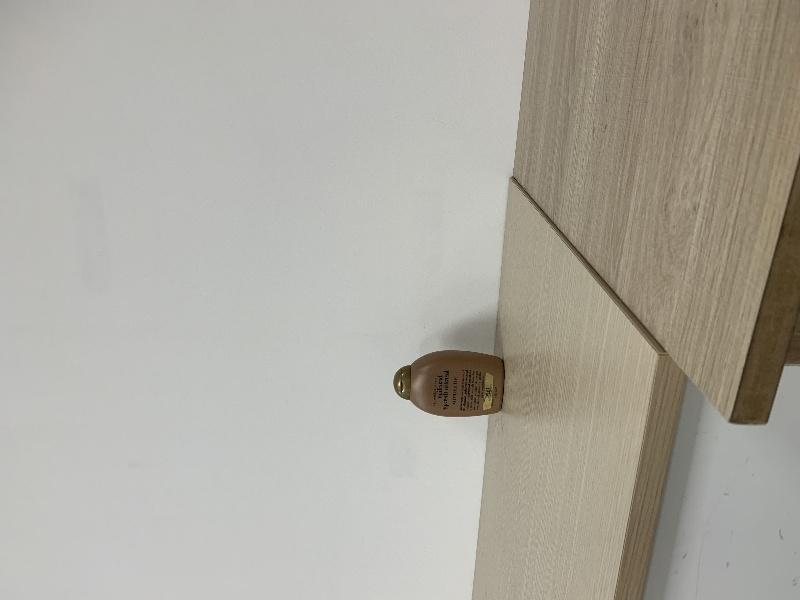BrazilianKeratinTherapy_Shampoo: (393, 351, 504, 418)
